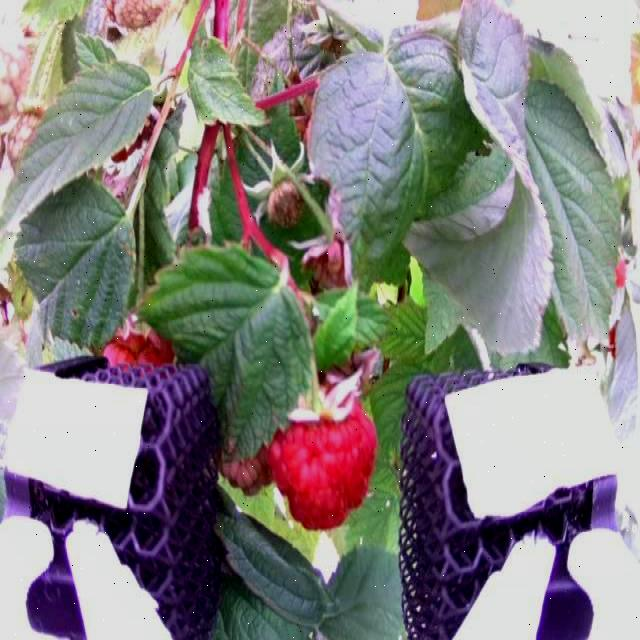Riped berries: (274, 383, 384, 535), (102, 313, 176, 372)
